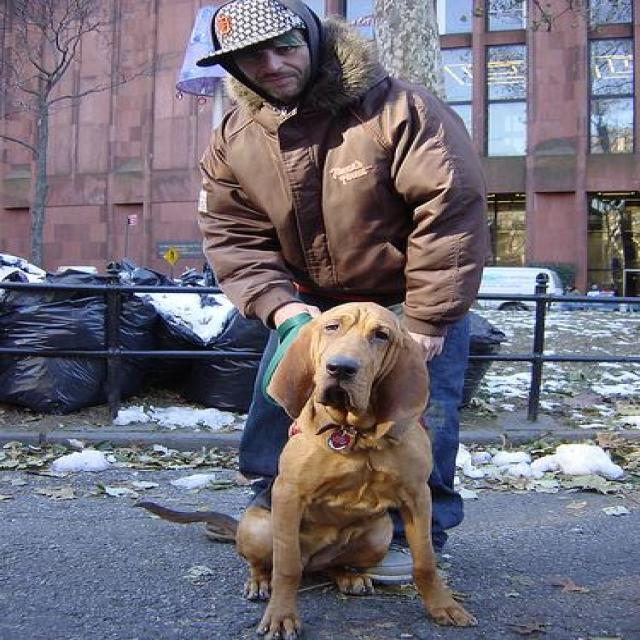bloodhound: (130, 297, 478, 637)
